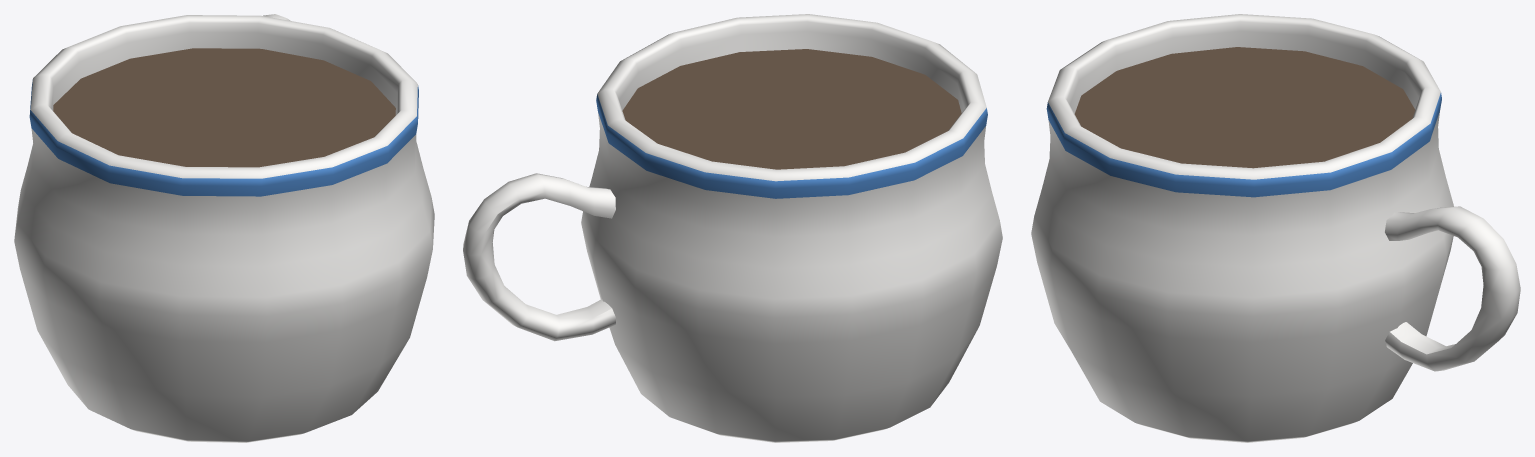
File: Cup_4.glb
3 renders of one model, left to right at view 1: azimuth 30°, elevation 25°; view 2: azimuth 150°, elevation 25°; view 3: azimuth 270°, elevation 25°, orthographic.
Visible parts, largest first — view 1: Cup_4; view 2: Cup_4; view 3: Cup_4.
Part boxes in pixels (<box>): Cup_4: <box>14,14,434,442</box>; Cup_4: <box>463,14,1002,442</box>; Cup_4: <box>1031,14,1520,442</box>.
Bounding box in the file's own units: 0.1799 × 0.1295 × 0.199.
1 material, 1 textured.
